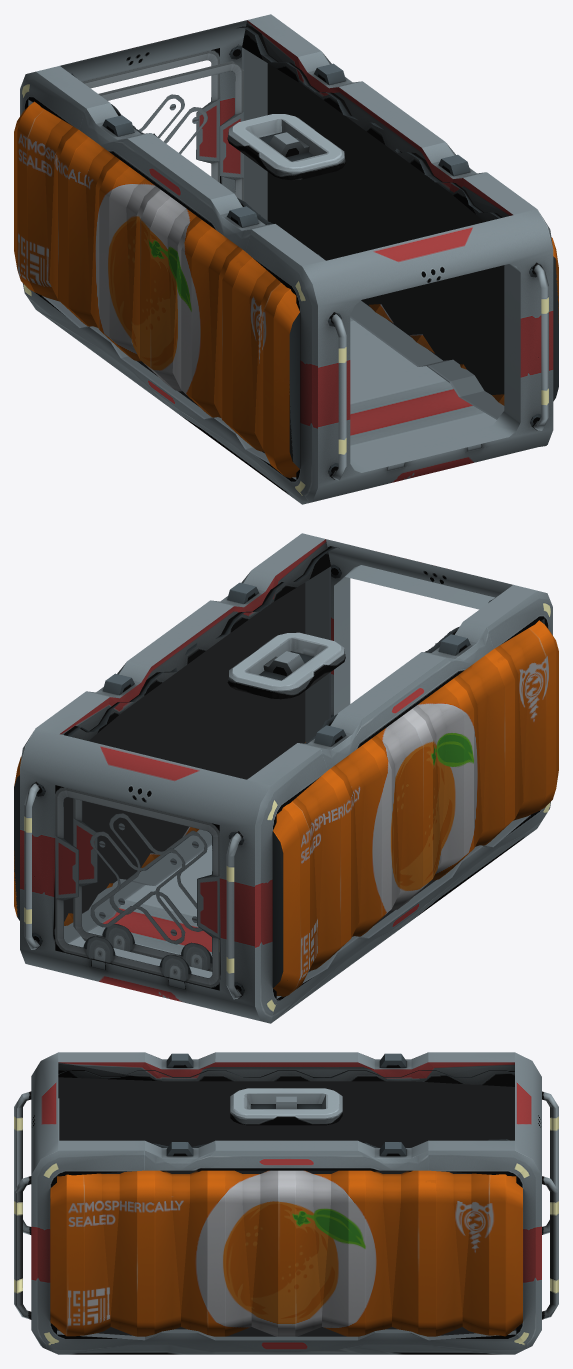
The model's file is env_building_container_empty_lod1.fbx.
3 views of the same model, one above another, from view 1: azimuth 30°, elevation 25°; view 2: azimuth 150°, elevation 25°; view 3: azimuth 270°, elevation 25° (orthographic). The views are drawn at different scales.
Parts seen in each view (by area): view 1: Lod2Roof:Mesh1; view 2: Lod2Roof:Mesh1; view 3: Lod2Roof:Mesh1.
Part boxes in pixels (x1=…): Lod2Roof:Mesh1: x1=14, y1=14, x2=558, y2=504; Lod2Roof:Mesh1: x1=14, y1=533, x2=558, y2=1023; Lod2Roof:Mesh1: x1=14, y1=1052, x2=558, y2=1354.
Bounding box in the file's own units: 19.98 × 16.24 × 38.94.
